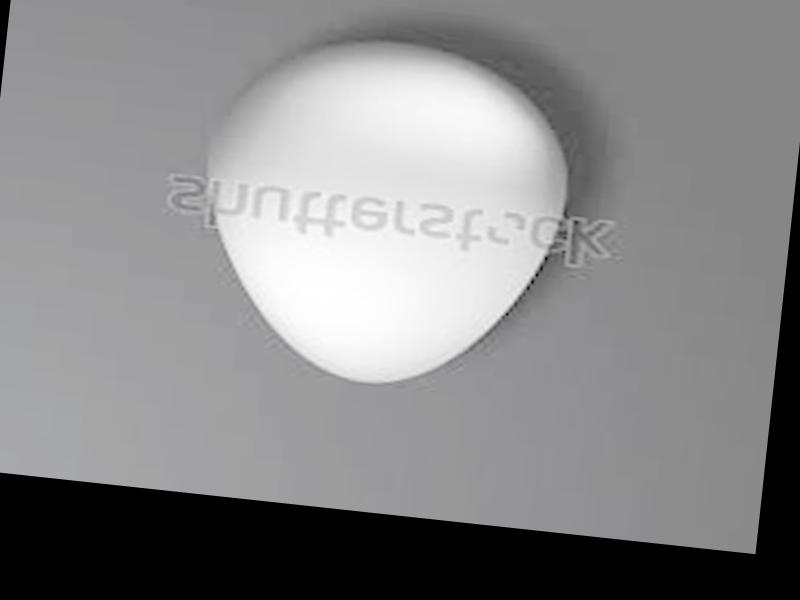Eggs: (186, 27, 579, 403)
